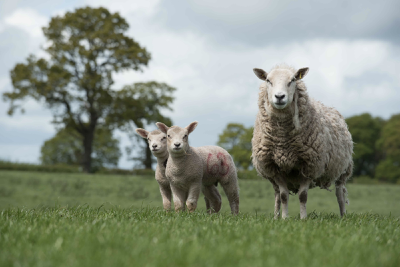koyun: (252, 65, 354, 220), (167, 118, 240, 216), (138, 122, 166, 210)
